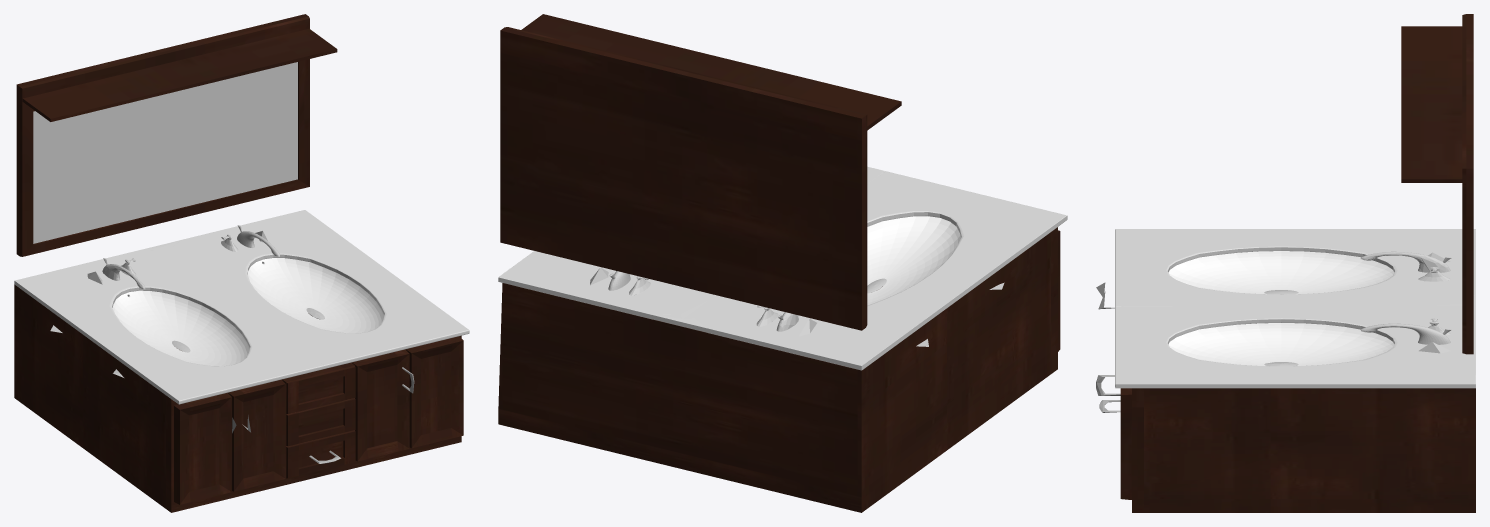
File: sh-scopia-double-vanity.glb
3 views of the same model, side by side, from view 1: azimuth 30°, elevation 25°; view 2: azimuth 150°, elevation 25°; view 3: azimuth 270°, elevation 25° (orthographic). The views are drawn at different scales.
Visible parts, largest first — view 1: leftdoor_righside_Plane.018_dark_wood_dark_wood.jpg, lightcenter_Cylinder.009_Material.001, sweethome3d_window_mirror.001_Plane.000_mirror, sink_Sphere_white_ceramic, simpletap_Circle.001_chrome, heat_handle2_Circle.005_chrome; view 2: leftdoor_righside_Plane.018_dark_wood_dark_wood.jpg, lightcenter_Cylinder.009_Material.001, sink_Sphere_white_ceramic, heat_handle2_Circle.005_chrome, simpletap_Circle.001_chrome; view 3: leftdoor_righside_Plane.018_dark_wood_dark_wood.jpg, lightcenter_Cylinder.009_Material.001, sink_Sphere_white_ceramic, simpletap_Circle.001_chrome, heat_handle2_Circle.005_chrome.
Part boxes in pixels (<box>): leftdoor_righside_Plane.018_dark_wood_dark_wood.jpg: <box>14,14,463,512</box>; lightcenter_Cylinder.009_Material.001: <box>14,210,469,404</box>; sweethome3d_window_mirror.001_Plane.000_mirror: <box>33,62,297,243</box>; sink_Sphere_white_ceramic: <box>112,258,384,366</box>; simpletap_Circle.001_chrome: <box>102,234,324,319</box>; heat_handle2_Circle.005_chrome: <box>50,225,279,377</box>; leftdoor_righside_Plane.018_dark_wood_dark_wood.jpg: <box>498,14,1060,512</box>; lightcenter_Cylinder.009_Material.001: <box>498,166,1067,370</box>; sink_Sphere_white_ceramic: <box>867,216,960,305</box>; heat_handle2_Circle.005_chrome: <box>590,267,1004,346</box>; simpletap_Circle.001_chrome: <box>629,276,798,331</box>; leftdoor_righside_Plane.018_dark_wood_dark_wood.jpg: <box>1120,14,1475,512</box>; lightcenter_Cylinder.009_Material.001: <box>1115,229,1475,388</box>; sink_Sphere_white_ceramic: <box>1168,251,1394,365</box>; simpletap_Circle.001_chrome: <box>1264,251,1451,366</box>; heat_handle2_Circle.005_chrome: <box>1264,252,1451,353</box>.
Bounding box in the file's own units: 0.9981 × 1 × 1.
6 materials, 1 textured.
